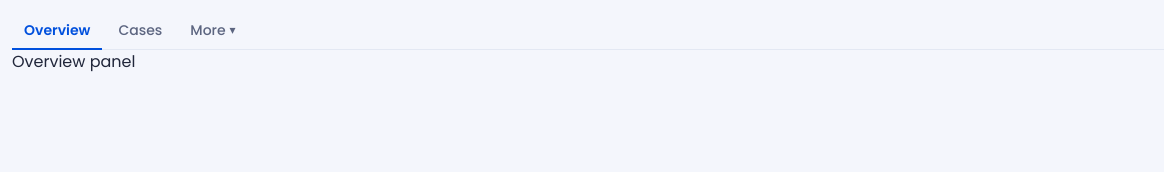
OverflowTabList › keeps the seldom used tabs under "More", and shows the open one in the row
The width and height of the screenshot is (1164, 172).
Expected: the tabs read "Overview", "Cases", in this order, [12,12,102,50]; [106,12,174,50]
Step 1. Click the button with aria-label "More sections" → (213, 31), box [178,12,248,50]
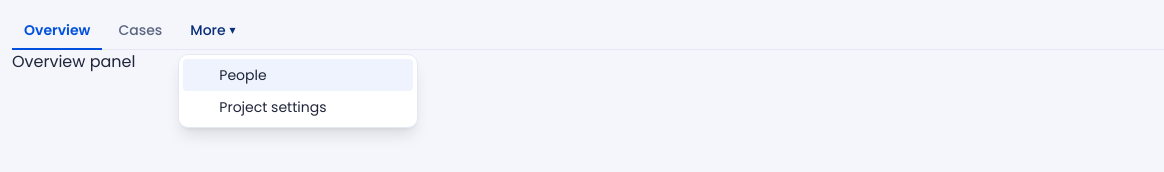
Step 2. Click the menu item "Project settings" → (273, 107), box [219,97,326,117]
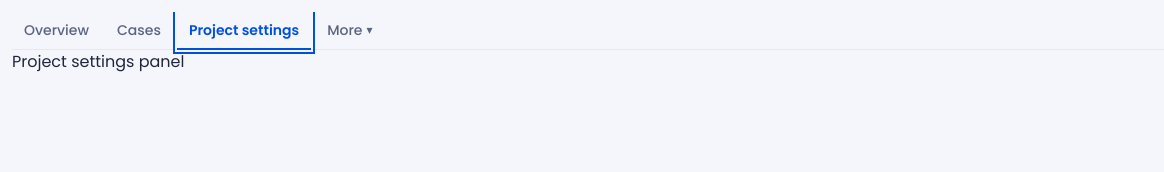
Expected: the text "Project settings panel" is shown, [12,50,184,73]
Expected: the menu item "People" is gone
